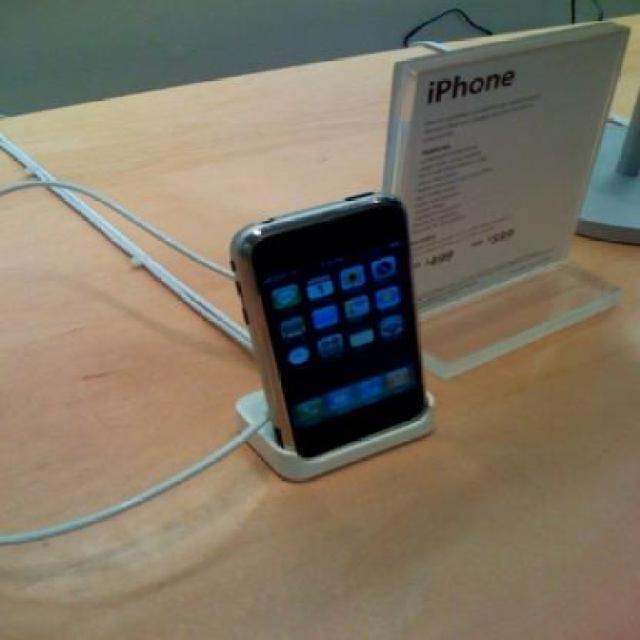phone: (224, 186, 442, 472)
